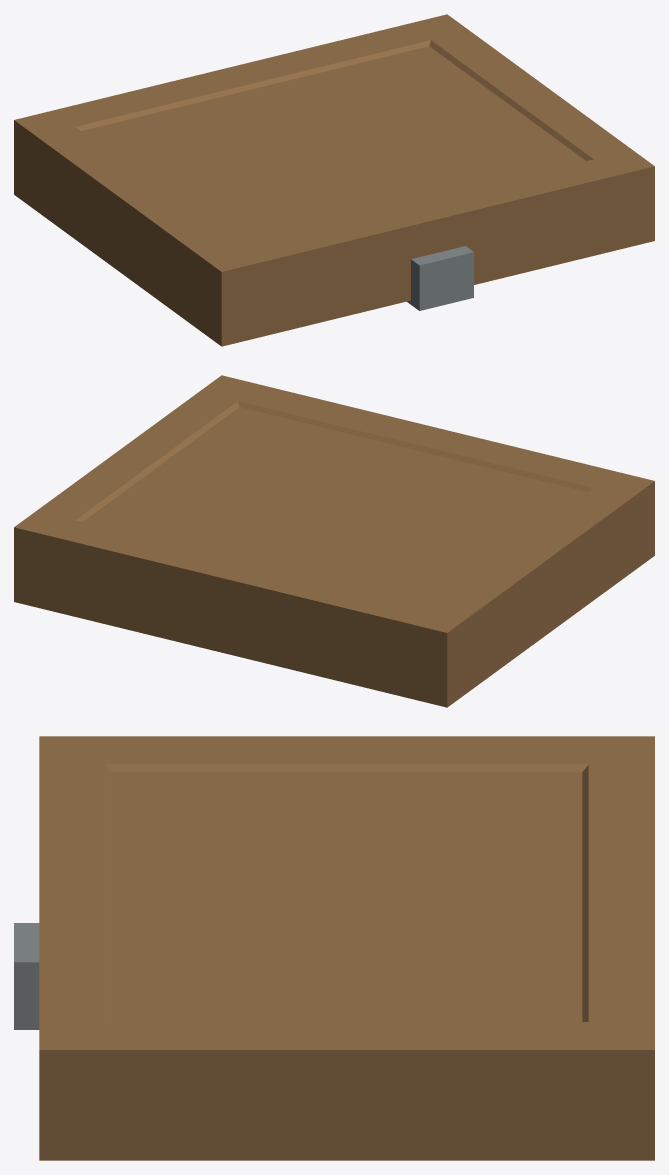
The model's file is SM_Treasure_Chest_01_C_Lid.fbx.
3 views of the same model, one above another, from view 1: azimuth 30°, elevation 25°; view 2: azimuth 150°, elevation 25°; view 3: azimuth 270°, elevation 25° (orthographic). The views are drawn at different scales.
Visible parts, largest first — view 1: pCube644; view 2: pCube644; view 3: pCube644.
Boxes of the visible parts, x1,y1,x2,y2 form: pCube644: [14, 14, 654, 346]; pCube644: [14, 375, 654, 707]; pCube644: [14, 736, 654, 1160].
Bounding box in the file's own units: 58.93 × 10.28 × 50.93.
Materials: 1 (1 with a texture image).
